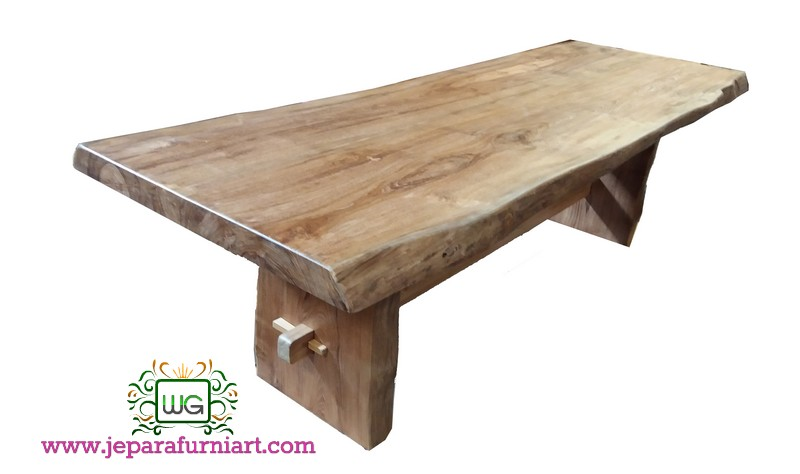Carving Table: (69, 51, 764, 438)
